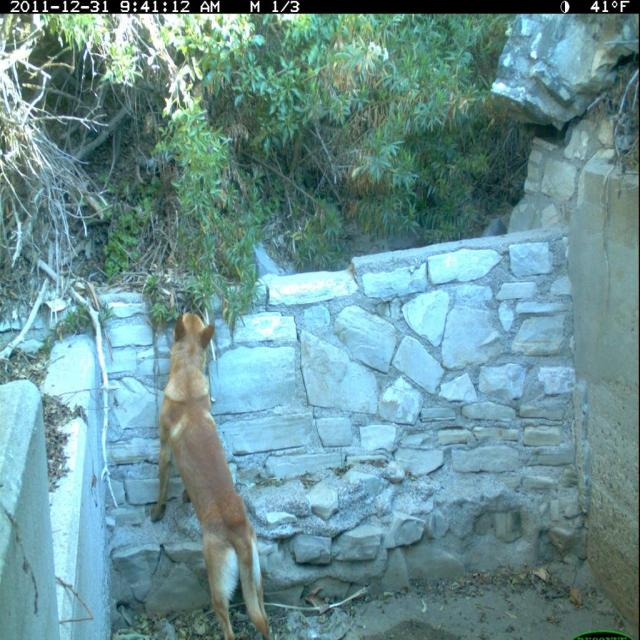dog: (148, 307, 277, 640)
